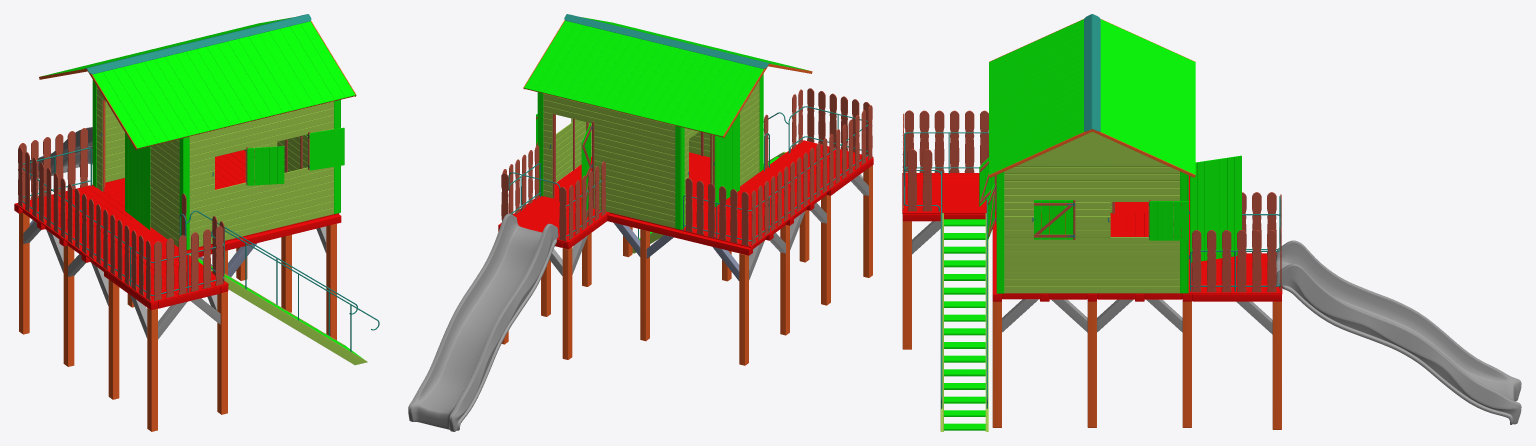
File: HouseWithSlide.fbx
3 views of the same model, side by side, from view 1: azimuth 30°, elevation 25°; view 2: azimuth 150°, elevation 25°; view 3: azimuth 270°, elevation 25° (orthographic). The views are drawn at different scales.
Parts seen in each view (by area): view 1: Playground House with Slide; view 2: Playground House with Slide; view 3: Playground House with Slide.
Boxes of the visible parts, x1=… form: Playground House with Slide: x1=14, y1=14, x2=379, y2=431; Playground House with Slide: x1=408, y1=14, x2=873, y2=431; Playground House with Slide: x1=902, y1=14, x2=1521, y2=431.
Bounding box in the file's own units: 353 × 400 × 723.
